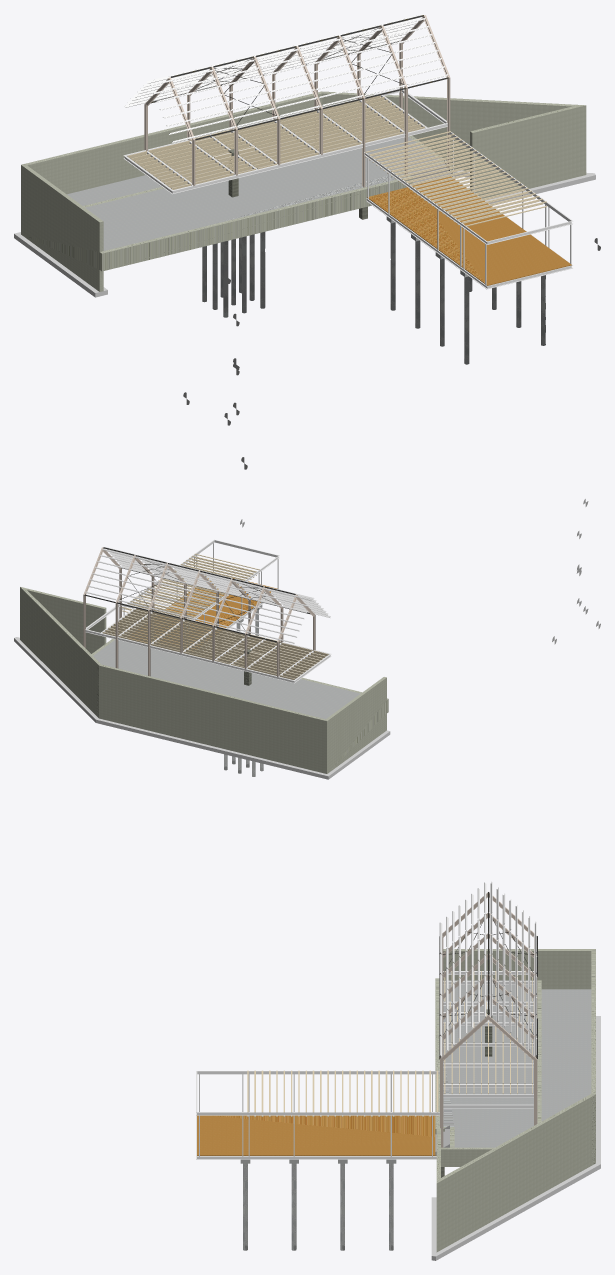
The model's file is RST_basic_sample_project.glb.
The picture shows the model from 3 angles, top to bottom: view 1: azimuth 30°, elevation 25°; view 2: azimuth 150°, elevation 25°; view 3: azimuth 270°, elevation 25°; orthographic projection. The views are drawn at different scales.
Parts seen in each view (by area): view 1: CL_W1 (×5), Insitu Concrete (×2), Plywood double brace, Insitu Concrete 250mm, Bearing Footing - 900 x 300 (×2), 200UB25.4; view 2: CL_W1 (×4), Insitu Concrete (×2), Bearing Footing - 900 x 300 (×3), Plywood double brace, 200UB25.4; view 3: CL_W1 (×6), Insitu Concrete (×2), Plywood double brace, Insitu Concrete 250mm, 200PFC (×3), Bearing Footing - 900 x 300 (×2).
Part boxes in pixels (x1,y1,x2,y2): CL_W1 (×5): (21,91,586,291); Insitu Concrete (×2): (85,132,441,250); Plywood double brace: (367,176,571,285); Insitu Concrete 250mm: (67,132,367,205); Bearing Footing - 900 x 300 (×2): (14,174,595,297); 200UB25.4: (172,144,362,194); CL_W1 (×4): (20,587,386,773); Insitu Concrete (×2): (93,639,360,718); Bearing Footing - 900 x 300 (×3): (14,637,390,779); Plywood double brace: (129,578,277,649); 200UB25.4: (149,645,294,683); CL_W1 (×6): (435,949,595,1252); Insitu Concrete (×2): (443,980,533,1147); Plywood double brace: (197,1115,436,1155); Insitu Concrete 250mm: (541,989,591,1121); 200PFC (×3): (196,1071,439,1159); Bearing Footing - 900 x 300 (×2): (433,1022,600,1260).
Bounding box in the file's own units: 39.54 × 16.75 × 36.22.
Materials: 14 (6 with a texture image).
